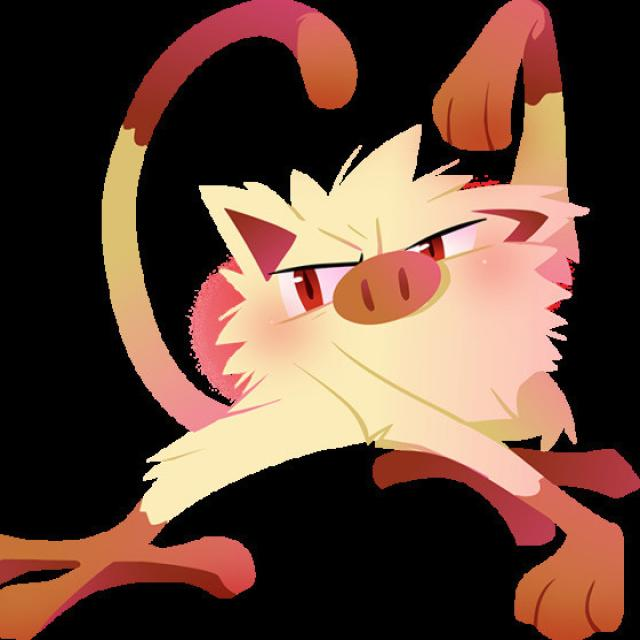Mankey: (109, 6, 584, 570)
